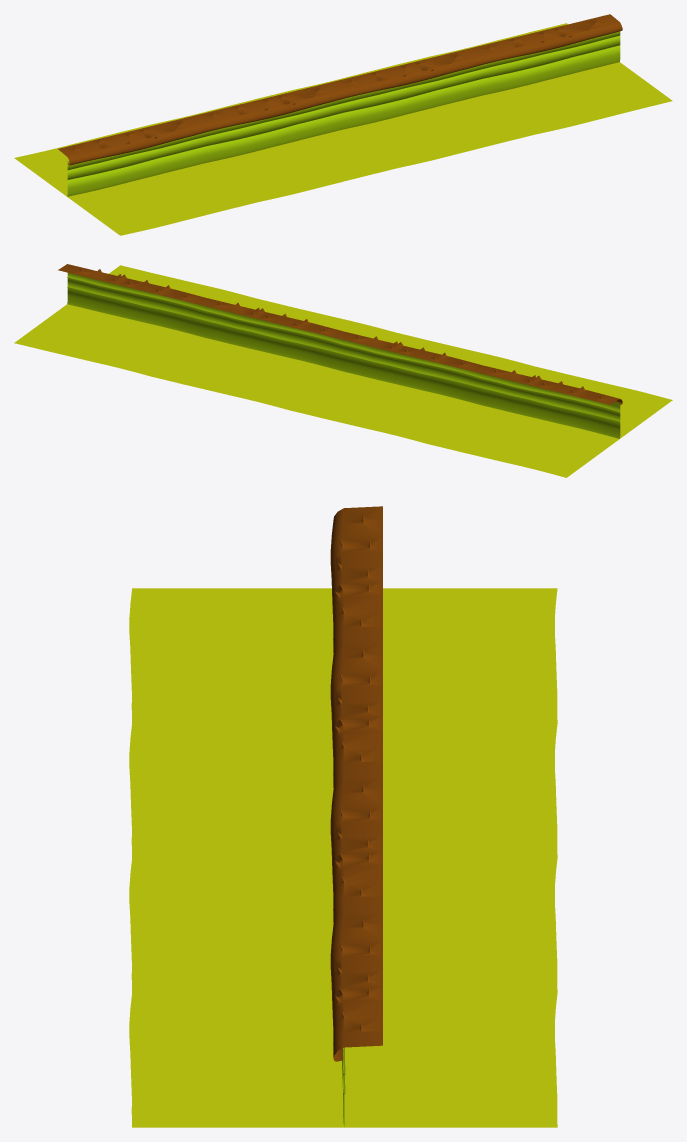
The model's file is WoodEdgeGreen.fbx.
3 renders of one model, top to bottom at view 1: azimuth 30°, elevation 25°; view 2: azimuth 150°, elevation 25°; view 3: azimuth 270°, elevation 25°, orthographic. The views are drawn at different scales.
Visible parts, largest first — view 1: WoodEdgeGreen; view 2: WoodEdgeGreen; view 3: WoodEdgeGreen.
Boxes of the visible parts, x1,y1,x2,y2 form: WoodEdgeGreen: [14, 14, 672, 235]; WoodEdgeGreen: [14, 264, 672, 477]; WoodEdgeGreen: [129, 506, 557, 1127].
Size of the model in its own units: 12000 by 907 by 4026.
